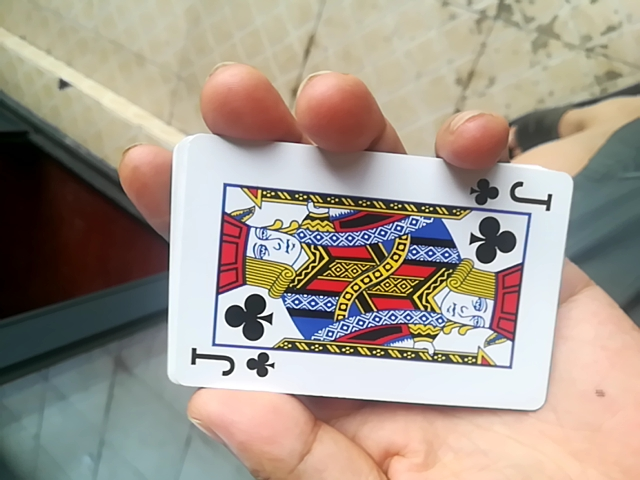mh j: (158, 141, 571, 412)
